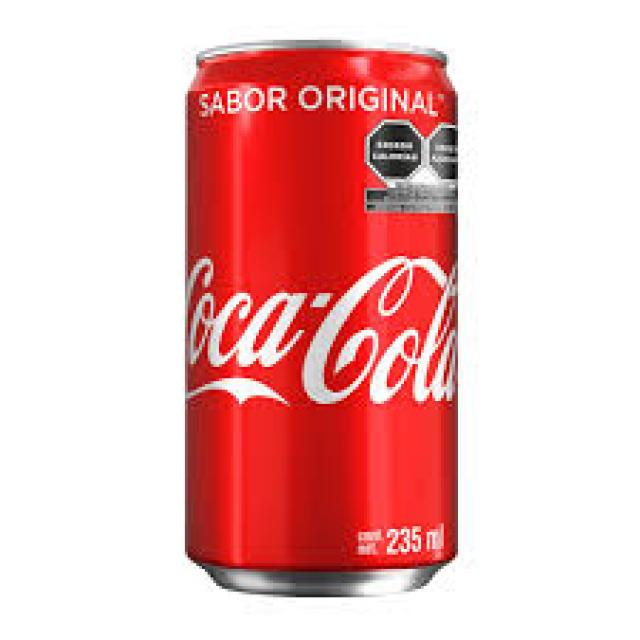Lata: (182, 52, 460, 592)
